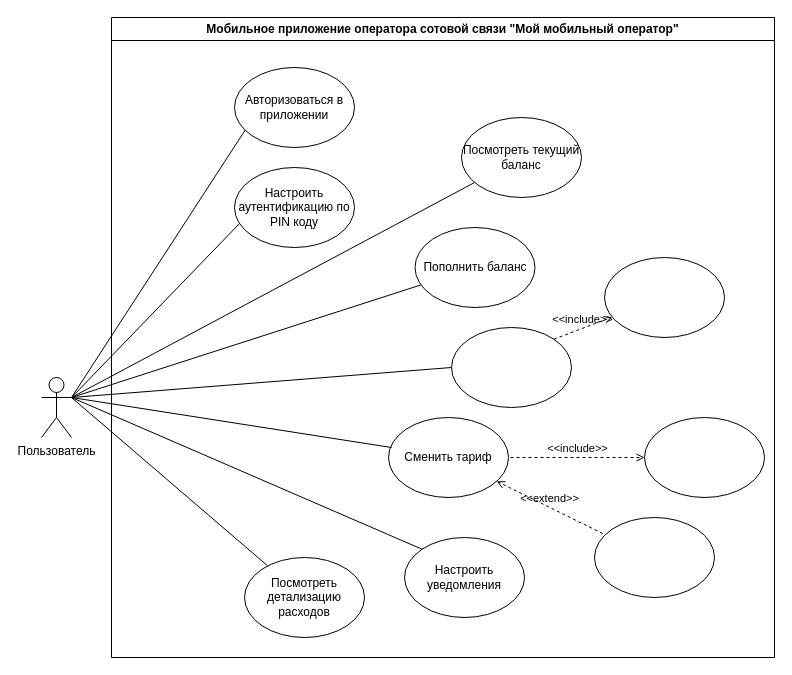
Image size: 792x675. Some labels were removed from this diagram. The centre of each missing label's shape, as x and y in pixels:
"Оплатить выбранные опции" belongs at point (664, 297).
"Оплатить смену тарифа" belongs at point (704, 457).
"Подключить дополнительные опции" belongs at point (511, 367).
"Скачать PDF с описанием тарифа" belongs at point (654, 557).
